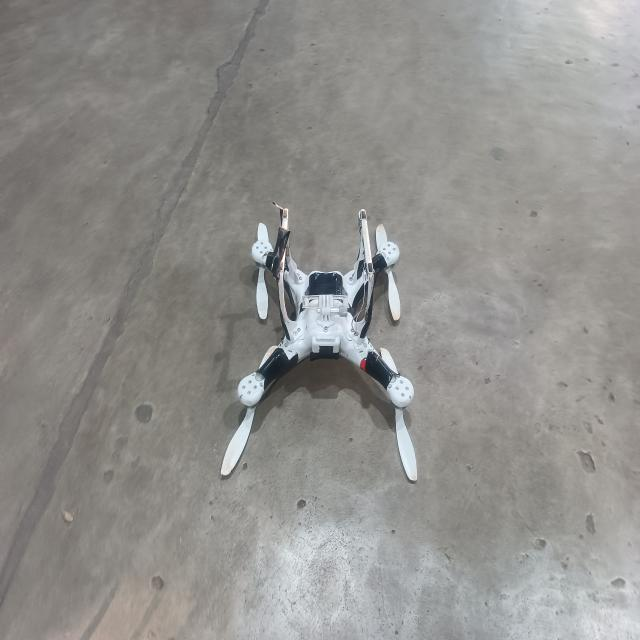drone: (203, 192, 460, 509)
